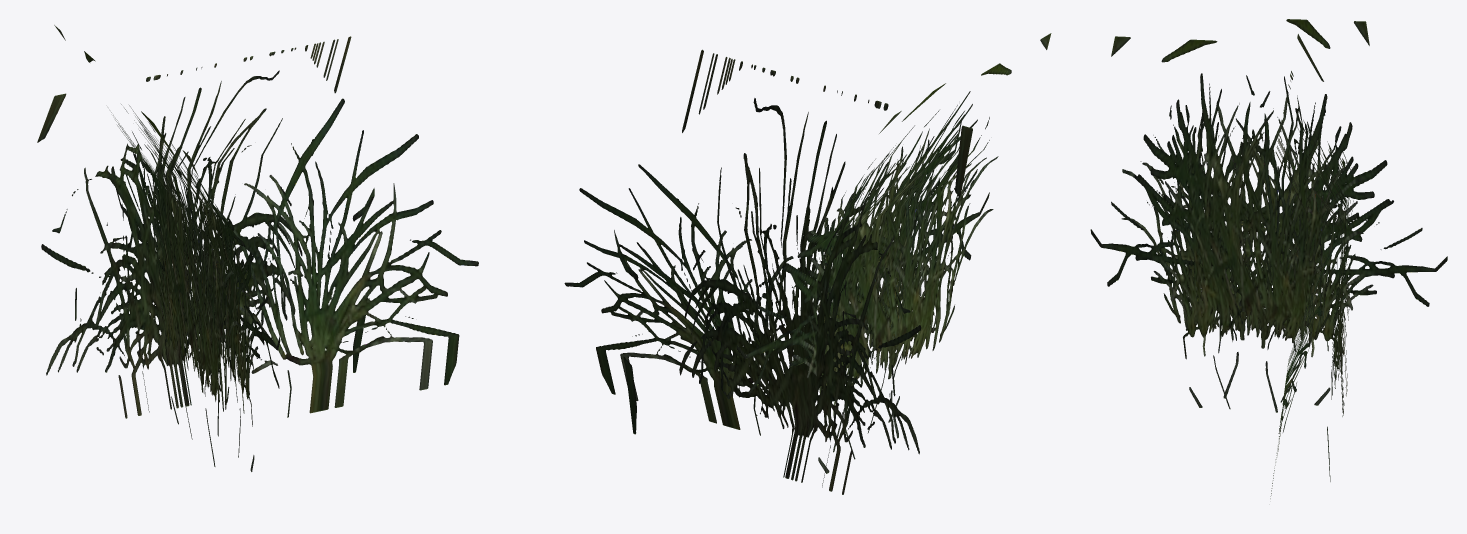
The model's file is forest_grass_001_a_LOD2.gltf.
The picture shows the model from 3 angles, left to right: view 1: azimuth 30°, elevation 25°; view 2: azimuth 150°, elevation 25°; view 3: azimuth 270°, elevation 25°; orthographic projection. The views are drawn at different scales.
Visible parts, largest first — view 1: forest_grass_001_a_LOD2; view 2: forest_grass_001_a_LOD2; view 3: forest_grass_001_a_LOD2.
Part boxes in pixels (bbox=[...]): forest_grass_001_a_LOD2: bbox=[37, 25, 478, 471]; forest_grass_001_a_LOD2: bbox=[564, 33, 1051, 494]; forest_grass_001_a_LOD2: bbox=[1090, 19, 1447, 498].
Size of the model in its own units: 0.9444 by 0.8265 by 0.8003.
1 material, 1 textured.
